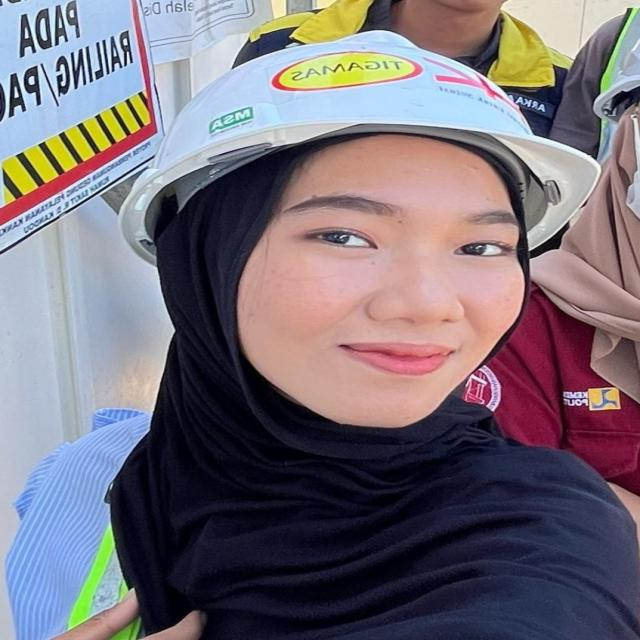safetyhelmet: (103, 31, 604, 286)
